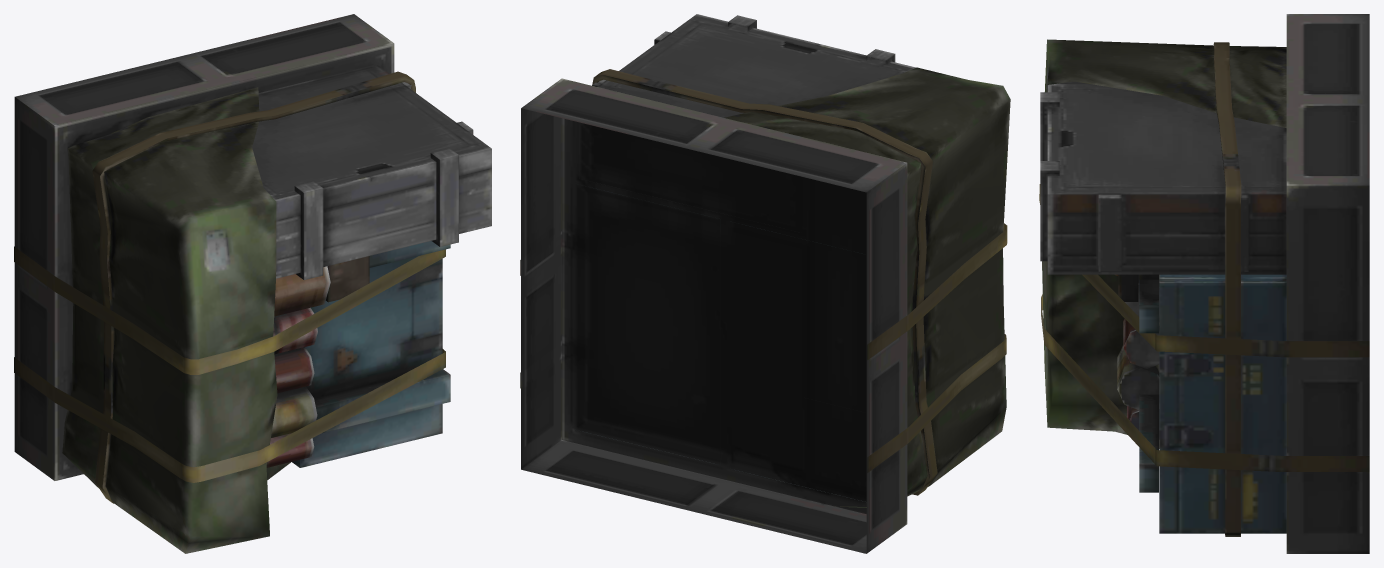
The model's file is trap_111_wdfarm.glb.
3 renders of one model, left to right at view 1: azimuth 30°, elevation 25°; view 2: azimuth 150°, elevation 25°; view 3: azimuth 270°, elevation 25°, orthographic. The views are drawn at different scales.
Visible parts, largest first — view 1: S_Warzone_SupplyPod; view 2: S_Warzone_SupplyPod; view 3: S_Warzone_SupplyPod.
Part boxes in pixels (<box>): S_Warzone_SupplyPod: <box>14,14,491,553</box>; S_Warzone_SupplyPod: <box>520,14,1010,553</box>; S_Warzone_SupplyPod: <box>1039,14,1369,553</box>.
Size of the model in its own units: 1 by 1.01 by 0.8127.
1 material, 1 textured.
